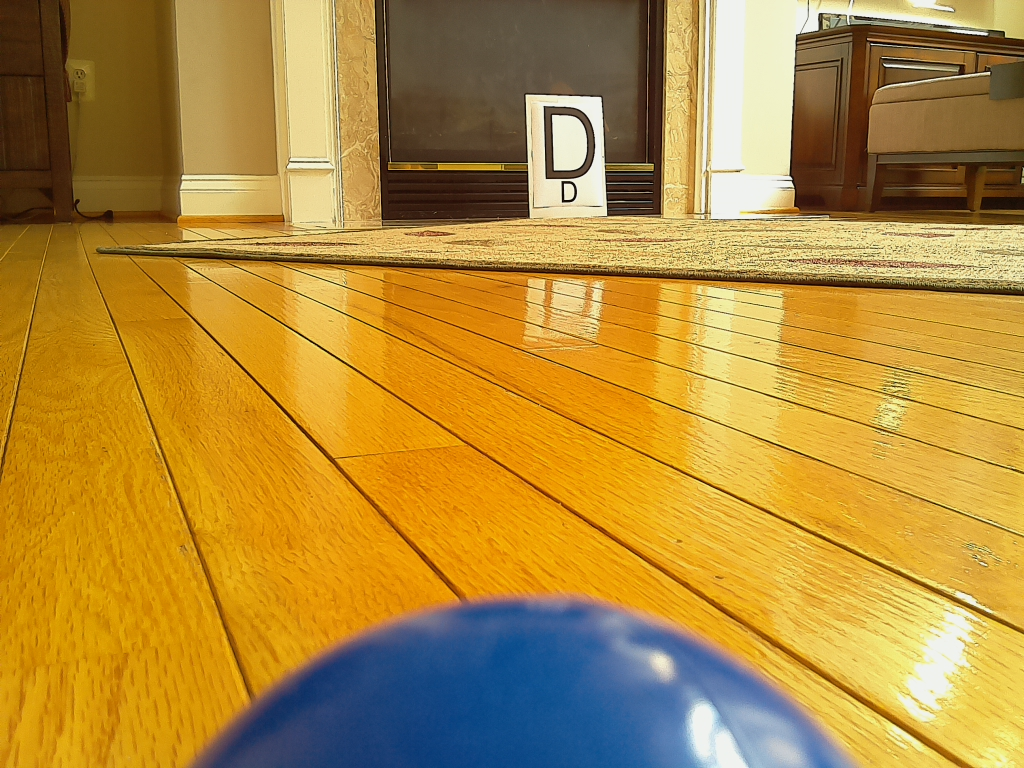letter: (545, 106, 596, 180)
